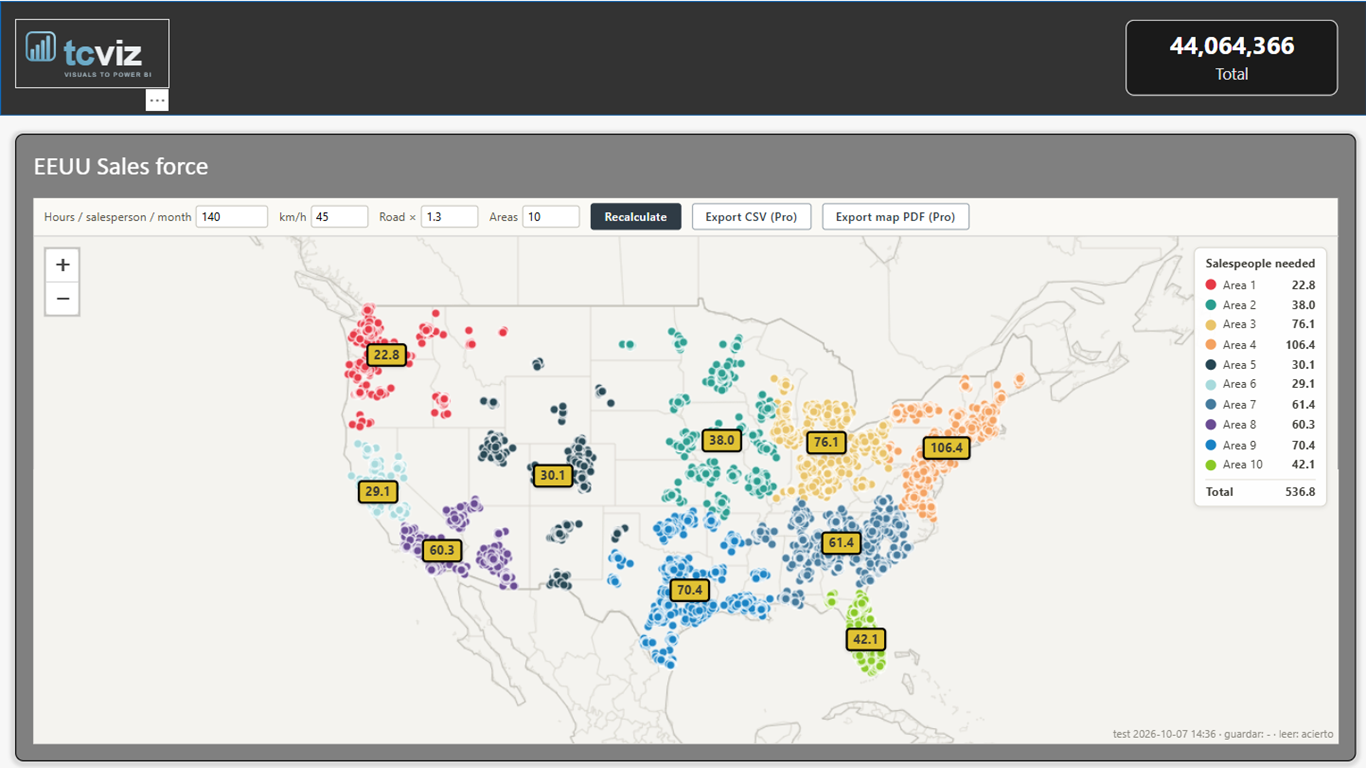

Layout of this report page (visuals, bound fields, positions):
{"tool":"powerbi","page":{"name":"EEUU","canvas":[1280,720],"ordinal":0},"visuals":[{"type":"shape","box":[0,0,1280.4,107.3],"z":0},{"type":"simpleCardPro8E70690E06BD4DD98F31050F64B6E5C6","fields":{"measure":["Sum(puntos_venta_us (3).sales_month_usd)"]},"box":[1038.3,3.5,231.4,101.1],"z":1000},{"type":"image","box":[14.2,16.8,144.5,64.7],"z":2000},{"type":"clusterWeighted7852F42A6D8A494CB286C44ACCF04FBB","title":"EEUU Sales force","fields":{"latitude":["Sum(puntos_venta_us (3).lat)"],"longitude":["Sum(puntos_venta_us (3).lon)"],"visits":["Sum(puntos_venta_us (3).visits_month)"],"minutes":["Sum(puntos_venta_us (3).minutes_visit)"],"speed":["Sum(puntos_venta_us (3).speed_kmh)"],"customer_id":["puntos_venta_us (3).customer_id"]},"box":[14,124.3,1256.1,586.9],"z":3000}]}

Visuals, with their boxes in screenshot pixels (x1, y1, x2, y2):
shape: 0, 0, 1344, 109
simpleCardPro8E70690E06BD4DD98F31050F64B6E5C6 - Sum(puntos_venta_us (3).sales_month_usd): 1089, 0, 1333, 107
image: 11, 14, 163, 82
"EEUU Sales force" clusterWeighted7852F42A6D8A494CB286C44ACCF04FBB: 11, 127, 1333, 745
